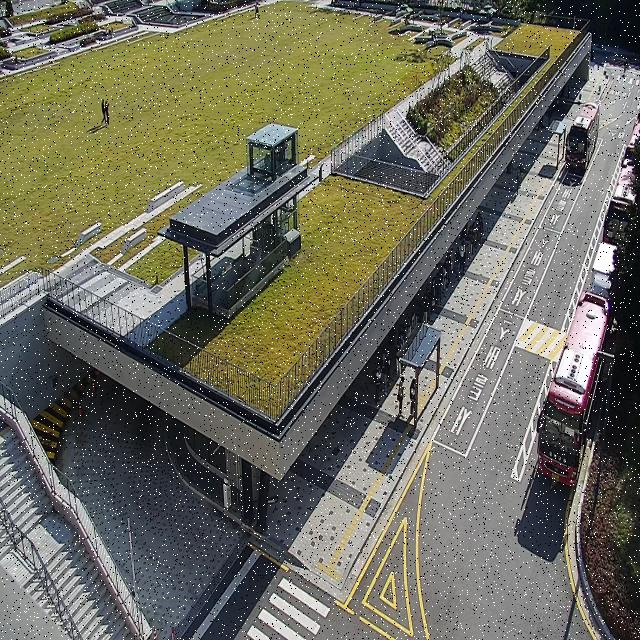queue: (415, 210, 483, 430)
